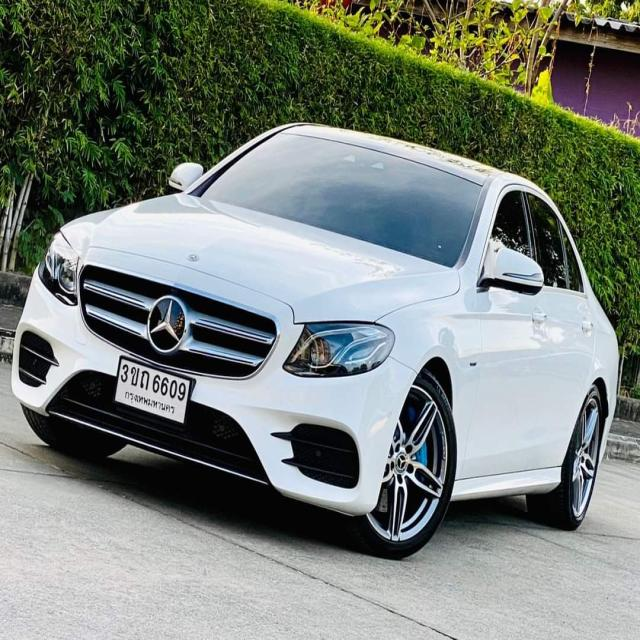license_plate: (112, 351, 195, 433)
